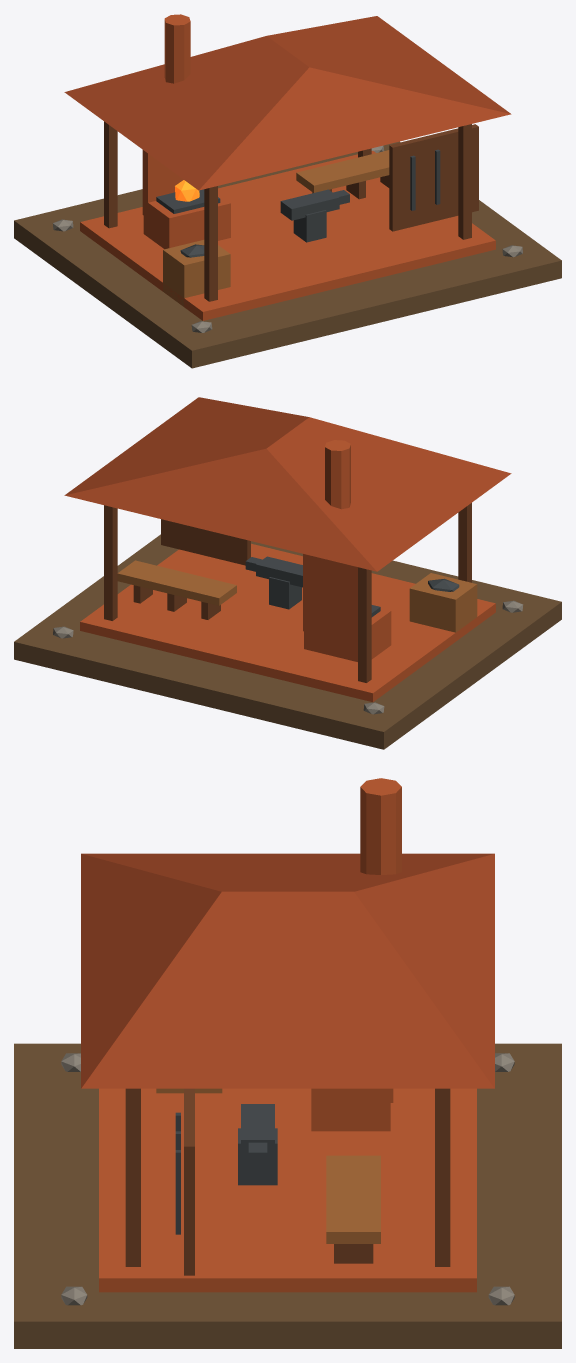
File: blacksmith_workshop.glb
The picture shows the model from 3 angles, top to bottom: view 1: azimuth 30°, elevation 25°; view 2: azimuth 150°, elevation 25°; view 3: azimuth 270°, elevation 25°; orthographic projection. The views are drawn at different scales.
Parts seen in each view (by area): view 1: BlacksmithWorkshopRoof, Building_Base, BlacksmithWorkshopFloor, WeaponRack, ForgeBase, CoalBin, Workbench, ForgeChimney, BlacksmithWorkshopPost, BlacksmithWorkshopPost.002, BlacksmithWorkshopPost.001, ForgeBack (+3 smaller); view 2: BlacksmithWorkshopRoof, Building_Base, BlacksmithWorkshopFloor, ForgeBack, CoalBin, Workbench, WeaponRack, ForgeBase, ForgeChimney, BlacksmithWorkshopPost.001, BlacksmithWorkshopPost.003, BlacksmithWorkshopPost (+2 smaller); view 3: BlacksmithWorkshopRoof, Building_Base, BlacksmithWorkshopFloor, Workbench, ForgeChimney, ForgeBase, BlacksmithWorkshopPost.002, BlacksmithWorkshopPost.003, WeaponRack, AnvilTop, AnvilBase, WorkbenchLeg.002.
Part boxes in pixels (left/top/right/bottom): BlacksmithWorkshopRoof: left=64, top=16, right=511, bottom=190; Building_Base: left=14, top=141, right=561, bottom=368; BlacksmithWorkshopFloor: left=80, top=150, right=495, bottom=320; WeaponRack: left=389, top=124, right=478, bottom=231; ForgeBase: left=143, top=194, right=230, bottom=249; CoalBin: left=163, top=240, right=230, bottom=306; Workbench: left=296, top=150, right=389, bottom=192; ForgeChimney: left=164, top=14, right=190, bottom=83; BlacksmithWorkshopPost: left=204, top=186, right=217, bottom=301; BlacksmithWorkshopPost.002: left=458, top=124, right=471, bottom=239; BlacksmithWorkshopPost.001: left=104, top=121, right=117, bottom=228; ForgeBack: left=142, top=150, right=183, bottom=215; BlacksmithWorkshopRoof: left=64, top=397, right=511, bottom=571; Building_Base: left=14, top=534, right=561, bottom=749; BlacksmithWorkshopFloor: left=80, top=543, right=495, bottom=702; ForgeBack: left=303, top=554, right=357, bottom=644; CoalBin: left=409, top=573, right=477, bottom=632; Workbench: left=117, top=560, right=236, bottom=605; WeaponRack: left=161, top=519, right=250, bottom=565; ForgeBase: left=304, top=608, right=391, bottom=661; ForgeChimney: left=325, top=440, right=350, bottom=509; BlacksmithWorkshopPost.001: left=358, top=567, right=371, bottom=682; BlacksmithWorkshopPost.003: left=104, top=505, right=117, bottom=620; BlacksmithWorkshopPost: left=458, top=503, right=471, bottom=582; BlacksmithWorkshopRoof: left=81, top=853, right=494, bottom=1088; Building_Base: left=14, top=1043, right=561, bottom=1348; BlacksmithWorkshopFloor: left=99, top=1088, right=476, bottom=1292; Workbench: left=326, top=1155, right=380, bottom=1243; ForgeChimney: left=360, top=778, right=401, bottom=874; ForgeBase: left=311, top=1088, right=390, bottom=1131; BlacksmithWorkshopPost.002: left=125, top=1088, right=140, bottom=1266; BlacksmithWorkshopPost.003: left=435, top=1088, right=450, bottom=1266; WeaponRack: left=184, top=1088, right=194, bottom=1275; AnvilTop: left=241, top=1104, right=274, bottom=1157; AnvilBase: left=238, top=1128, right=277, bottom=1185; WorkbenchLeg.002: left=334, top=1244, right=373, bottom=1263.
Size of the model in its own units: 12 by 7.31 by 10.
